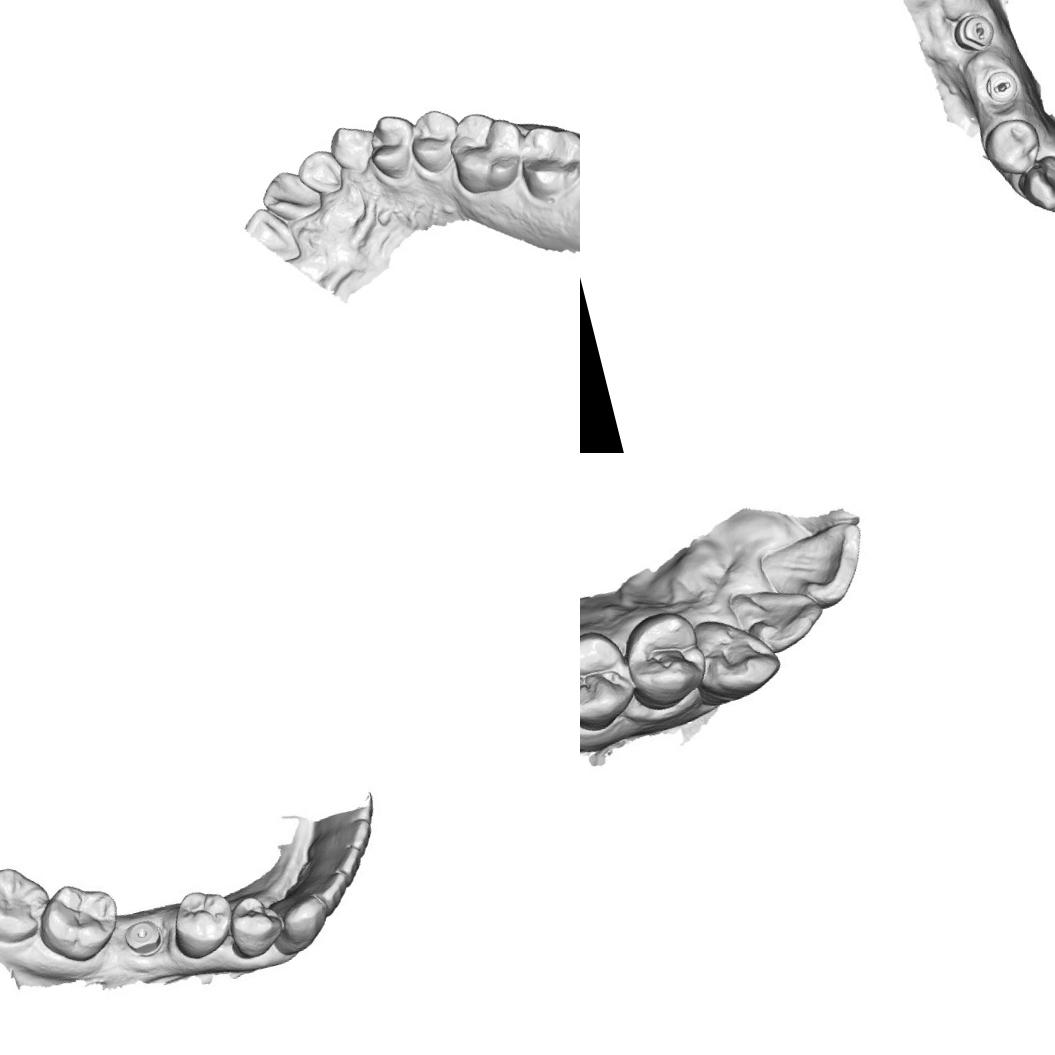canine: (684, 602, 786, 708), (267, 888, 332, 958), (324, 118, 383, 178), (1015, 152, 1055, 216)
implant: (120, 912, 166, 960)
implant_minus: (946, 6, 1001, 60), (976, 60, 1027, 114)
incisor: (752, 519, 876, 622), (724, 568, 832, 666), (238, 198, 304, 270), (254, 162, 324, 228), (280, 867, 356, 923), (303, 814, 376, 861), (293, 144, 348, 200), (300, 843, 365, 890)
molar: (28, 873, 130, 972), (440, 100, 534, 200), (511, 113, 580, 203), (0, 854, 58, 951)
premolar: (616, 604, 714, 718), (580, 616, 646, 743), (162, 880, 243, 966), (221, 890, 293, 962), (360, 107, 426, 185), (976, 111, 1048, 181), (402, 102, 468, 178)
